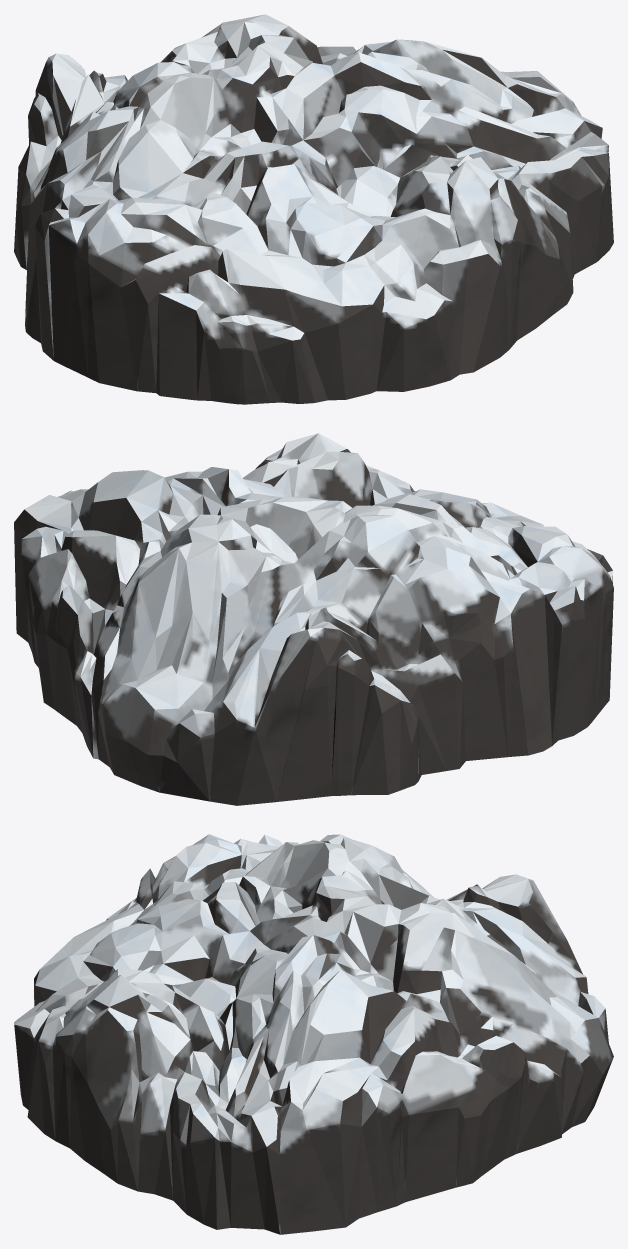
Rendered from pass_rock_b.gltf.
The picture shows the model from 3 angles, top to bottom: view 1: azimuth 30°, elevation 25°; view 2: azimuth 150°, elevation 25°; view 3: azimuth 270°, elevation 25°; orthographic projection. The views are drawn at different scales.
Parts seen in each view (by area): view 1: pass_rock_b; view 2: pass_rock_b; view 3: pass_rock_b.
Part boxes in pixels (box(x1,y1,x2,y2)): pass_rock_b: box(14, 14, 613, 404); pass_rock_b: box(14, 433, 613, 805); pass_rock_b: box(14, 834, 613, 1234).
Bounding box in the file's own units: 3.43 × 1.26 × 3.29.
Materials: 1 (1 with a texture image).
